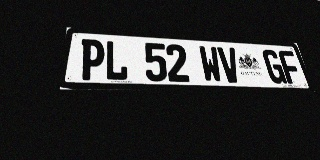2: (165, 44, 190, 82)
5: (144, 42, 168, 82)
F: (277, 50, 304, 84)
G: (261, 49, 287, 84)
L: (104, 40, 128, 81)
P: (79, 39, 105, 80)
V: (217, 47, 242, 83)
W: (198, 46, 223, 83)
